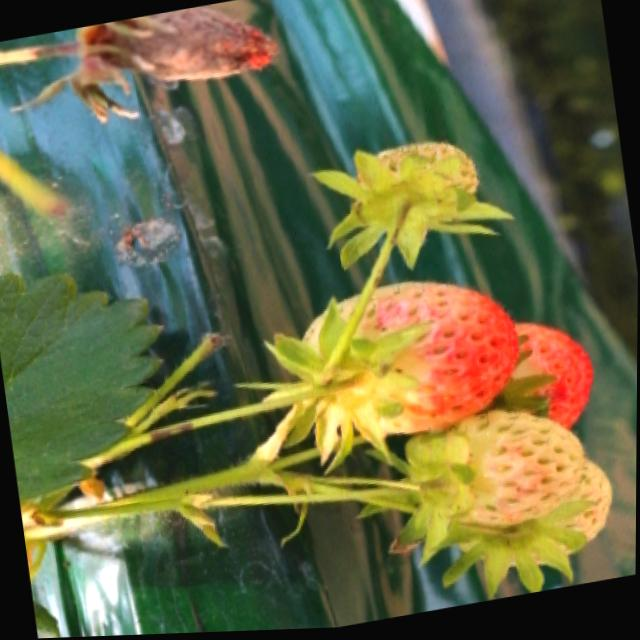Gray Mold: (50, 8, 277, 122)
